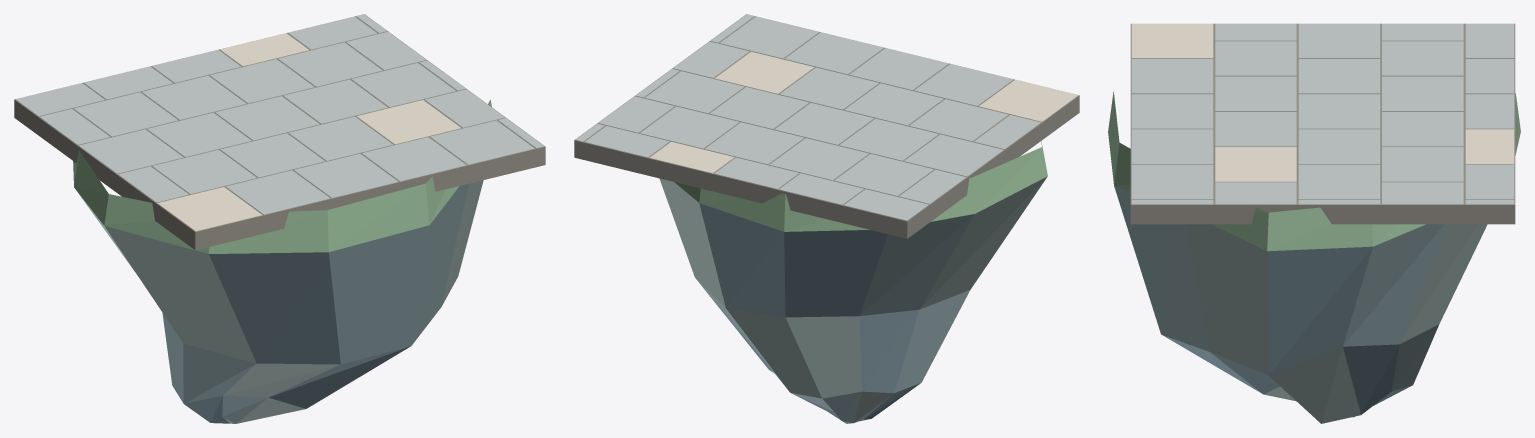
The model's file is FloatingIsland25.glb.
The picture shows the model from 3 angles, left to right: view 1: azimuth 30°, elevation 25°; view 2: azimuth 150°, elevation 25°; view 3: azimuth 270°, elevation 25°; orthographic projection. The views are drawn at different scales.
Visible parts, largest first — view 1: FloatingIsland25; view 2: FloatingIsland25; view 3: FloatingIsland25.
Boxes of the visible parts, <box> form: FloatingIsland25: <box>14,14,545,423</box>; FloatingIsland25: <box>574,14,1079,423</box>; FloatingIsland25: <box>1108,23,1520,423</box>.
Bounding box in the file's own units: 6.07 × 4.47 × 5.2.
